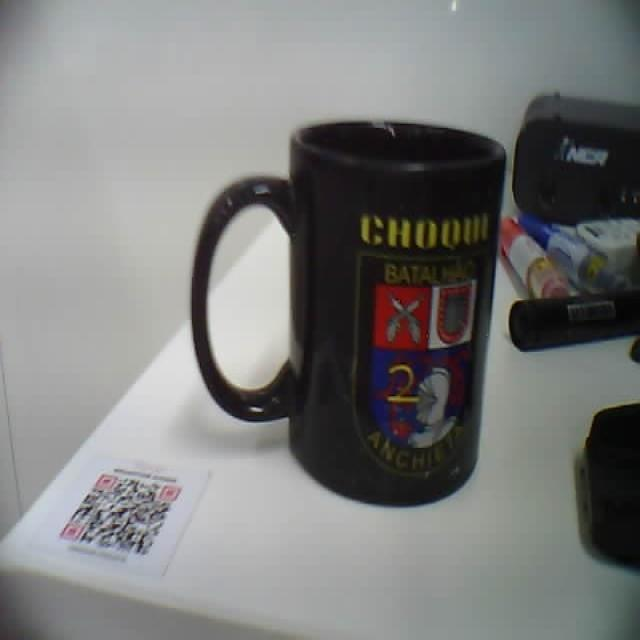caneca: (191, 123, 504, 504)
